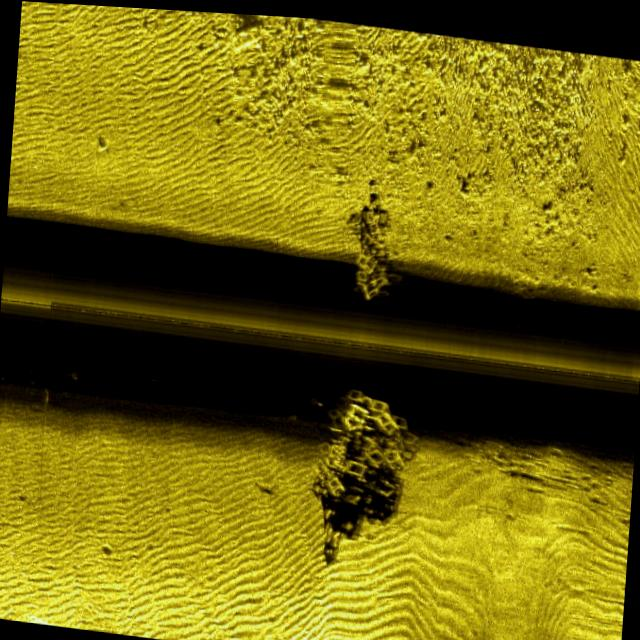artificial reef: (304, 375, 422, 520), (335, 190, 400, 299)
